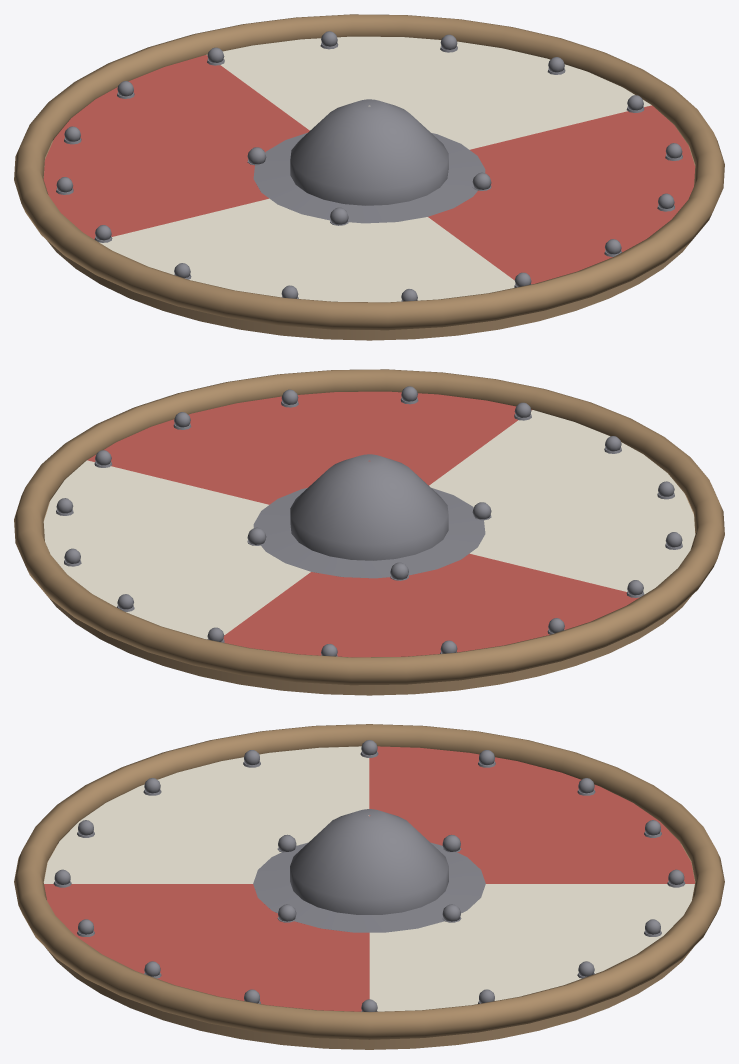
File: round-shield.glb
3 views of the same model, one above another, from view 1: azimuth 30°, elevation 25°; view 2: azimuth 150°, elevation 25°; view 3: azimuth 270°, elevation 25° (orthographic).
Parts seen in each view (by area): view 1: round-shield; view 2: round-shield; view 3: round-shield.
Boxes of the visible parts, left/top/right/bottom form: round-shield: left=14, top=14, right=724, bottom=340; round-shield: left=14, top=369, right=724, bottom=695; round-shield: left=14, top=724, right=724, bottom=1049.
Size of the model in its own units: 0.672 by 0.135 by 0.672.
